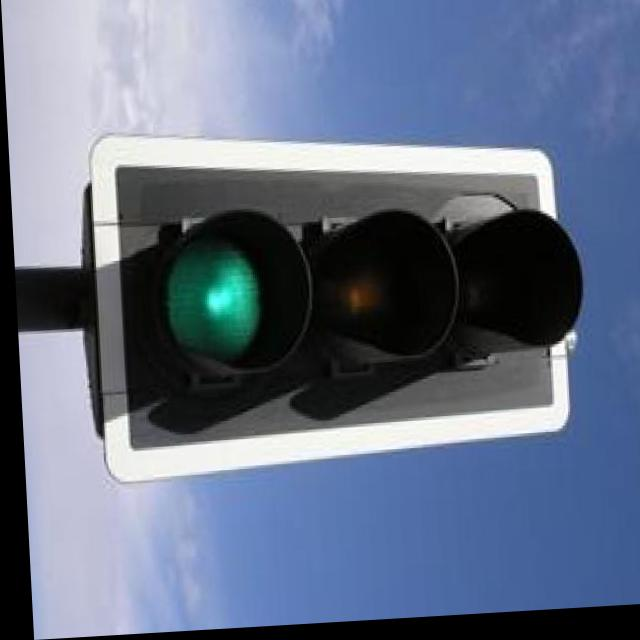green light: (122, 178, 586, 431)
